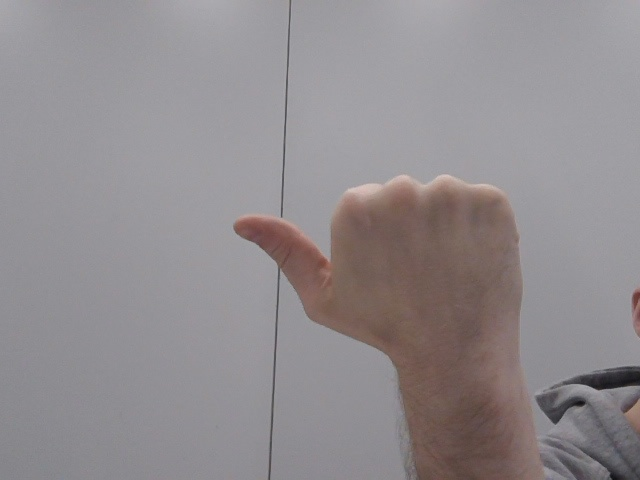right: (209, 156, 550, 363)
